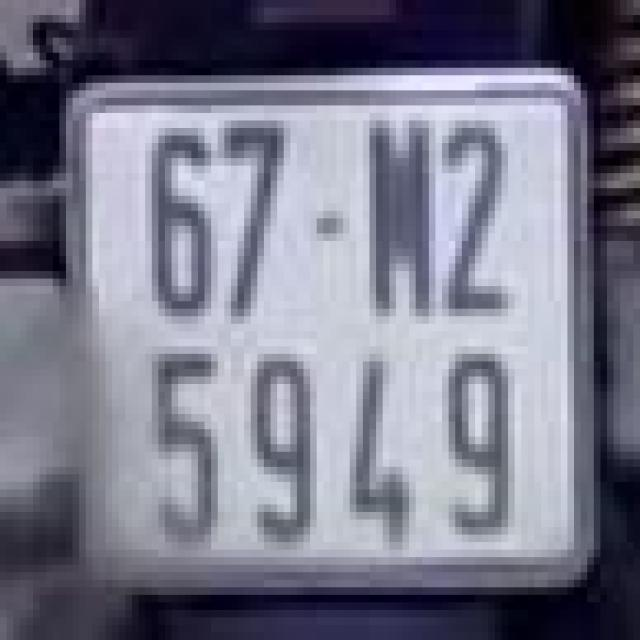2: (442, 109, 515, 328)
4: (337, 343, 422, 561)
5: (148, 339, 221, 557)
6: (135, 124, 221, 328)
7: (211, 113, 290, 324)
9: (436, 346, 522, 542), (241, 350, 320, 561)
M: (356, 101, 442, 328)
